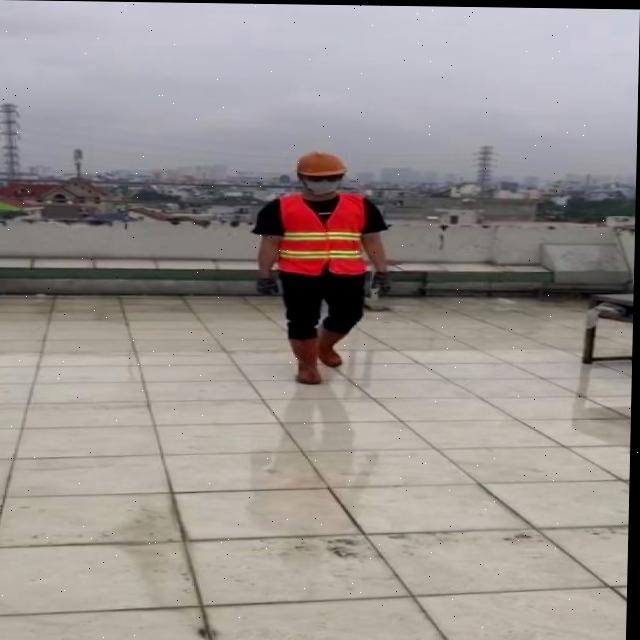Gloves: (373, 270, 392, 296), (257, 276, 282, 295)
Helmet: (296, 149, 348, 194)
Safety-Boot: (289, 333, 322, 382), (318, 322, 346, 365)
Safety-Vest: (276, 189, 369, 276)
